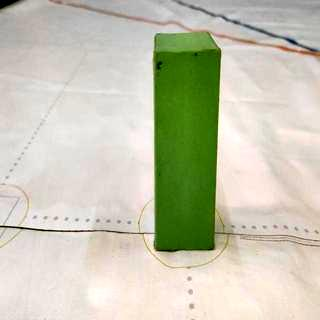greenbox: (152, 29, 222, 253)
